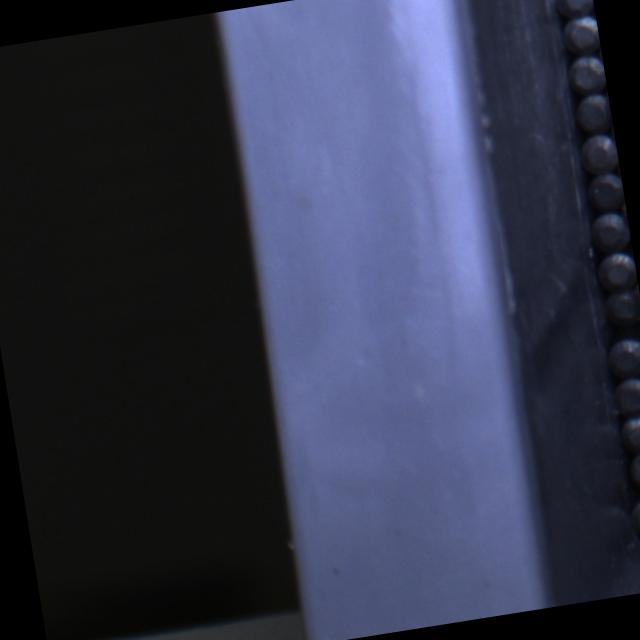tool: (579, 132, 620, 177), (603, 281, 640, 329), (598, 250, 639, 293), (562, 12, 602, 56), (592, 211, 632, 255), (575, 92, 614, 136), (568, 52, 608, 94), (605, 335, 640, 380), (587, 172, 626, 212), (613, 374, 640, 416), (618, 411, 640, 454), (553, 0, 595, 19), (628, 449, 640, 490), (630, 495, 640, 541)
